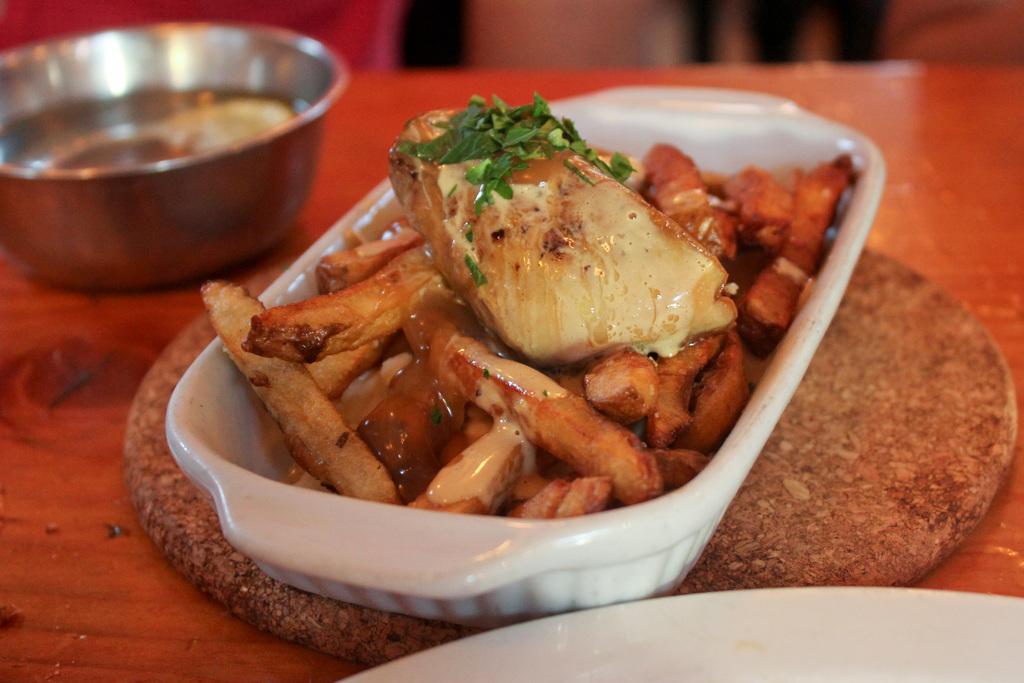French fries: (199, 126, 879, 530)
